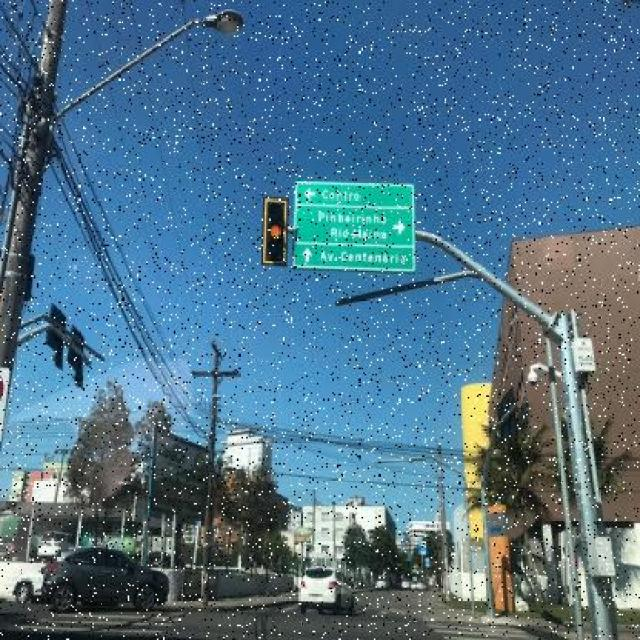yellow-light: (246, 183, 308, 290)
